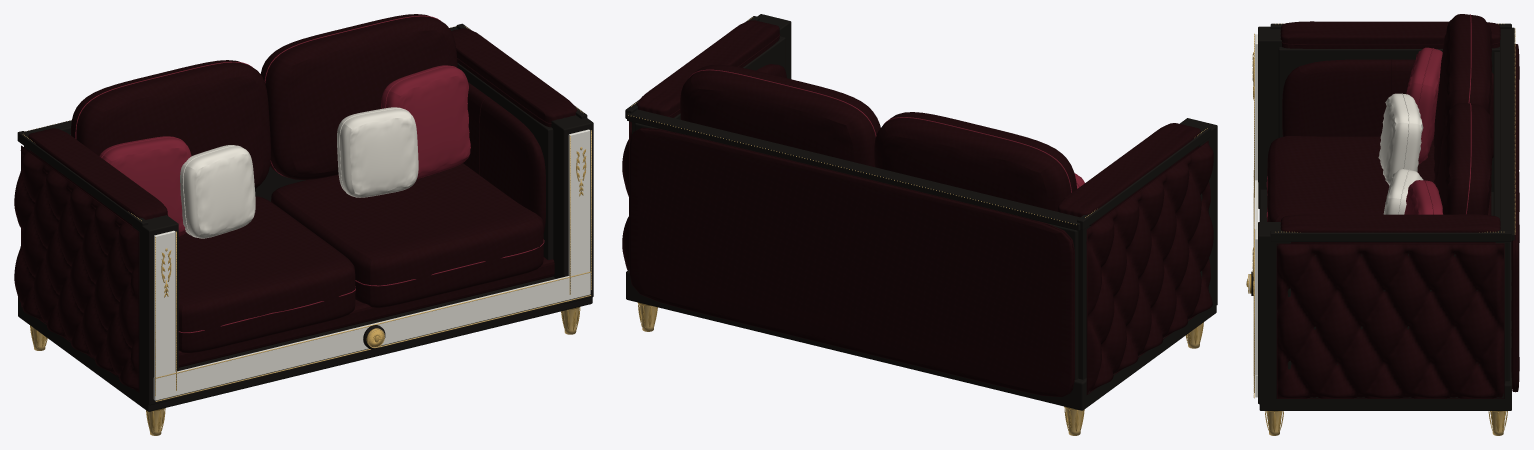
3 views of the same model, side by side, from view 1: azimuth 30°, elevation 25°; view 2: azimuth 150°, elevation 25°; view 3: azimuth 270°, elevation 25° (orthographic). The views are drawn at different scales.
Visible parts, largest first — view 1: Wellington burgundy two-seat sofa | 50491.0 | pair-13 web ba; view 2: Wellington burgundy two-seat sofa | 50491.0 | pair-13 web ba; view 3: Wellington burgundy two-seat sofa | 50491.0 | pair-13 web ba.
Part boxes in pixels (box(x1,y1,x2,y2)): Wellington burgundy two-seat sofa | 50491.0 | pair-13 web ba: box(14, 14, 593, 435); Wellington burgundy two-seat sofa | 50491.0 | pair-13 web ba: box(622, 14, 1217, 435); Wellington burgundy two-seat sofa | 50491.0 | pair-13 web ba: box(1246, 14, 1519, 435).
Bounding box in the file's own units: 1.8 × 0.95 × 0.95.
7 materials, 1 textured.
